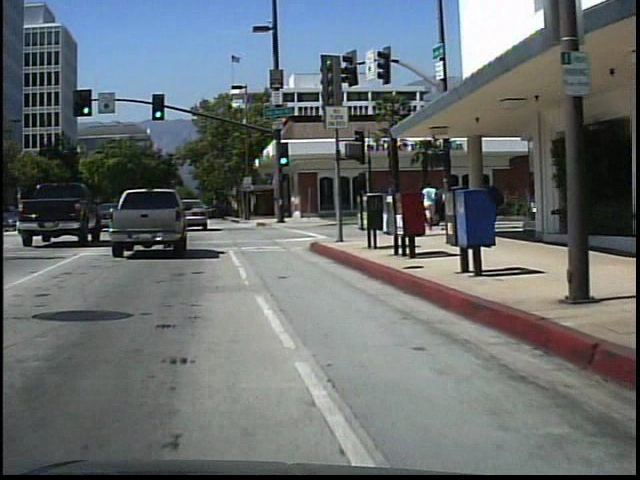person: (423, 179, 441, 233)
